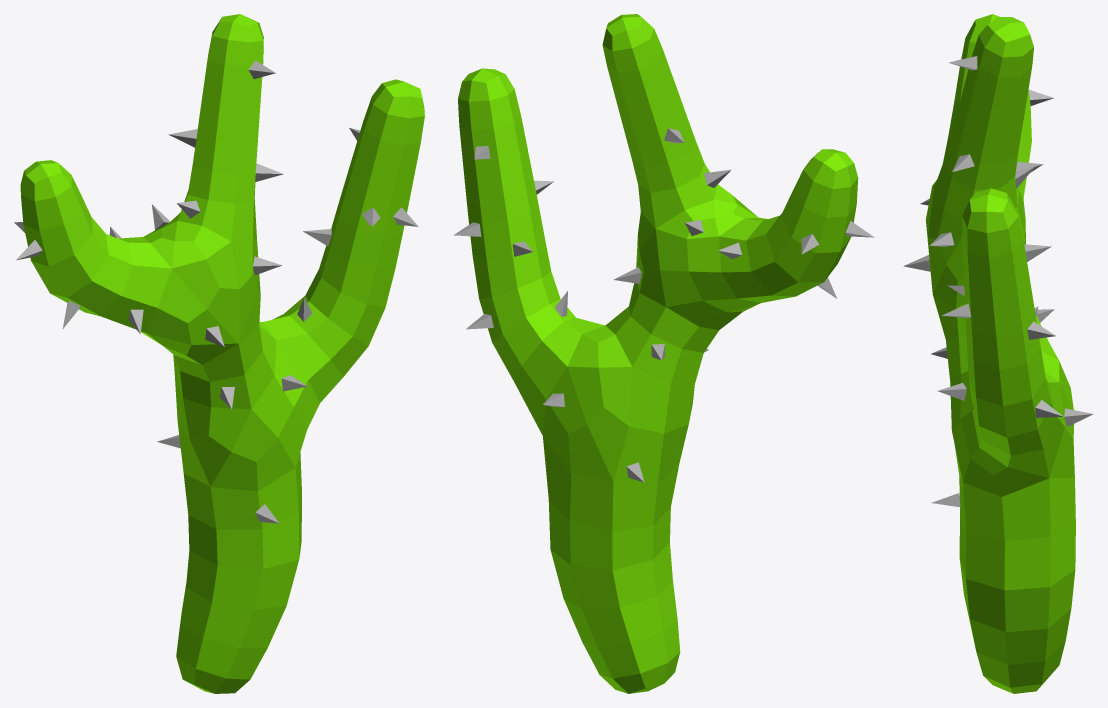
The model's file is cactus3.fbx.
The picture shows the model from 3 angles, left to right: view 1: azimuth 30°, elevation 25°; view 2: azimuth 150°, elevation 25°; view 3: azimuth 270°, elevation 25°; orthographic projection.
Visible parts, largest first — view 1: cactus3, Cone.002; view 2: cactus3, Cone.002; view 3: cactus3, Cone.002.
Part boxes in pixels (bbox=[...]): cactus3: bbox=[20, 14, 424, 693]; Cone.002: bbox=[14, 60, 418, 523]; cactus3: bbox=[458, 14, 858, 693]; Cone.002: bbox=[454, 128, 874, 482]; cactus3: bbox=[926, 14, 1075, 693]; Cone.002: bbox=[903, 56, 1093, 506].
Bounding box in the file's own units: 143 × 223 × 57.2.
